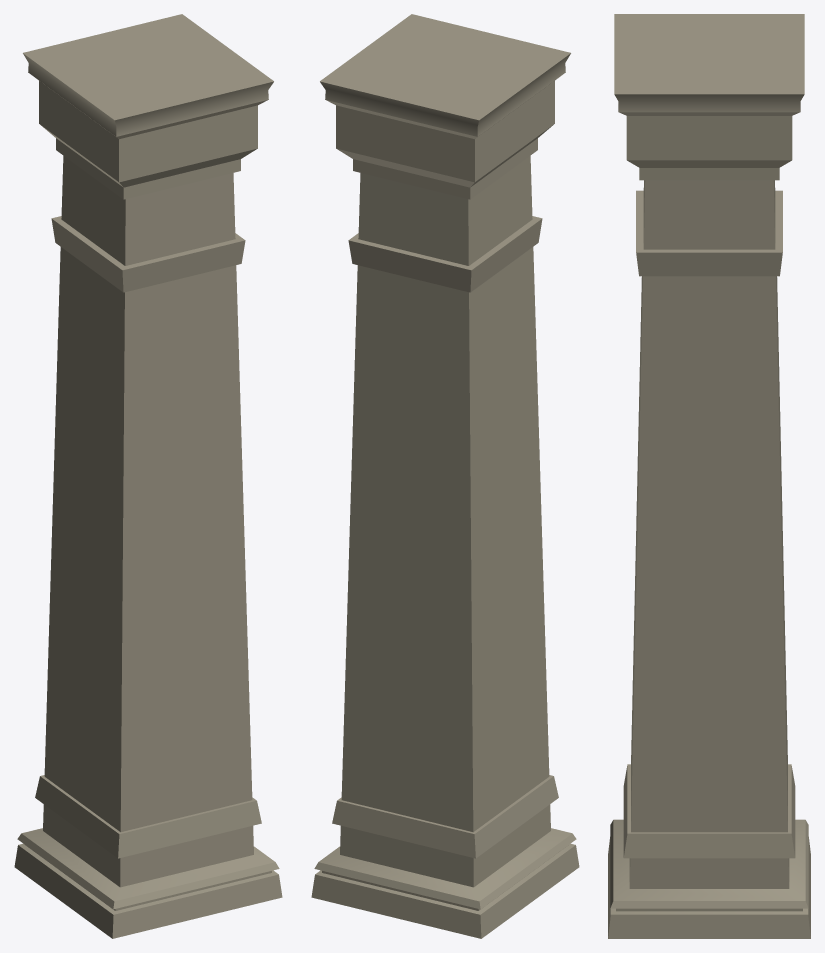
Rendered from Column_SquareBig.gltf.
The picture shows the model from 3 angles, left to right: view 1: azimuth 30°, elevation 25°; view 2: azimuth 150°, elevation 25°; view 3: azimuth 270°, elevation 25°; orthographic projection. The views are drawn at different scales.
Visible parts, largest first — view 1: Column_SquareBig; view 2: Column_SquareBig; view 3: Column_SquareBig.
Part boxes in pixels (box(x1,y1,x2,y2)): Column_SquareBig: box(14, 14, 282, 938); Column_SquareBig: box(311, 14, 579, 938); Column_SquareBig: box(608, 14, 810, 938).
Bounding box in the file's own units: 0.9073 × 4.16 × 0.9073.
